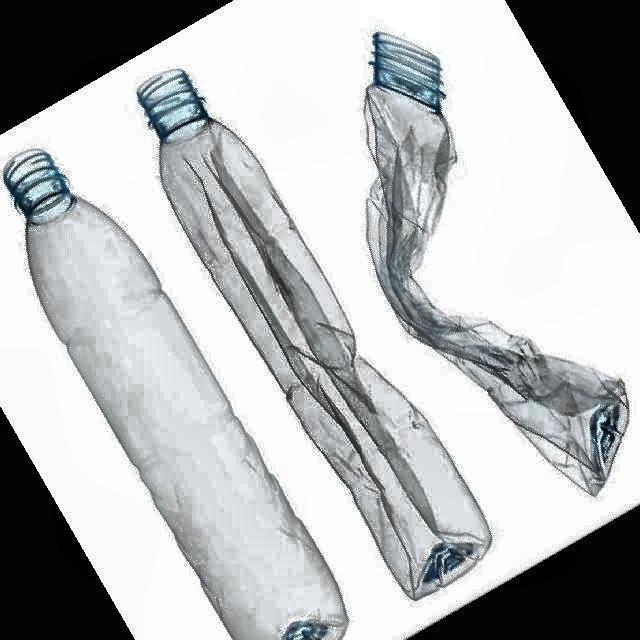plastic: (138, 70, 490, 598), (4, 150, 346, 640), (366, 35, 628, 494)
